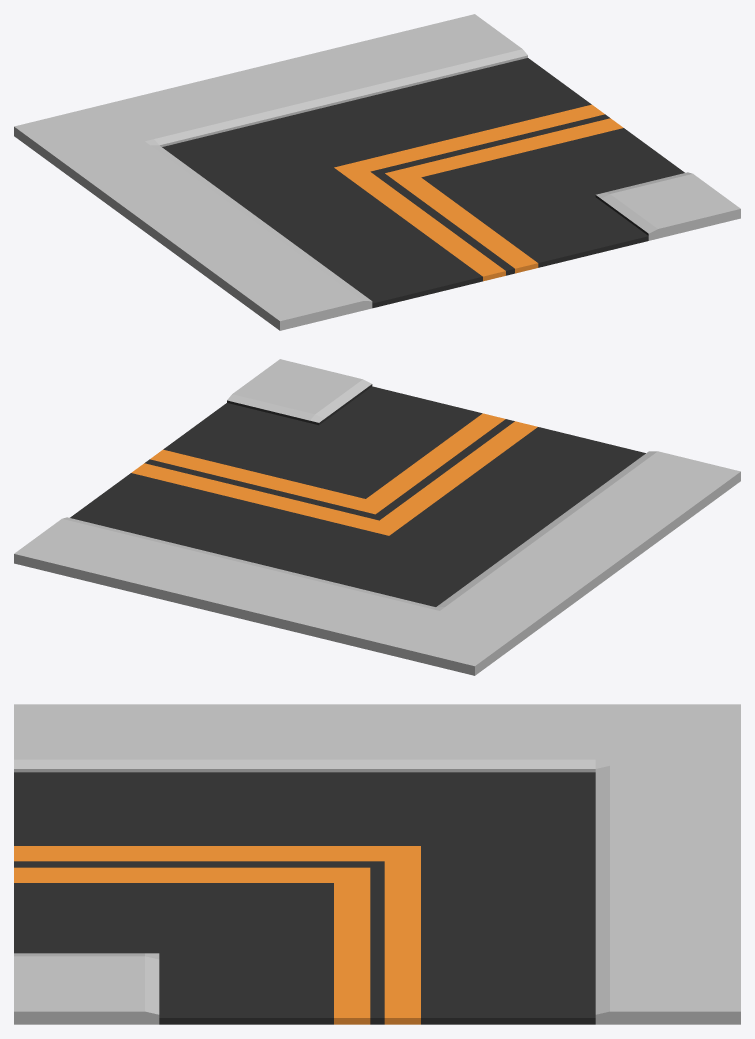
File: Road_Turn.fbx
3 views of the same model, one above another, from view 1: azimuth 30°, elevation 25°; view 2: azimuth 150°, elevation 25°; view 3: azimuth 270°, elevation 25° (orthographic). The views are drawn at different scales.
Visible parts, largest first — view 1: Turn; view 2: Turn; view 3: Turn.
Part boxes in pixels (bbox=[...]): Turn: bbox=[14, 14, 740, 330]; Turn: bbox=[14, 359, 740, 675]; Turn: bbox=[14, 704, 740, 1024].
Size of the model in its own units: 100 by 2 by 100.
